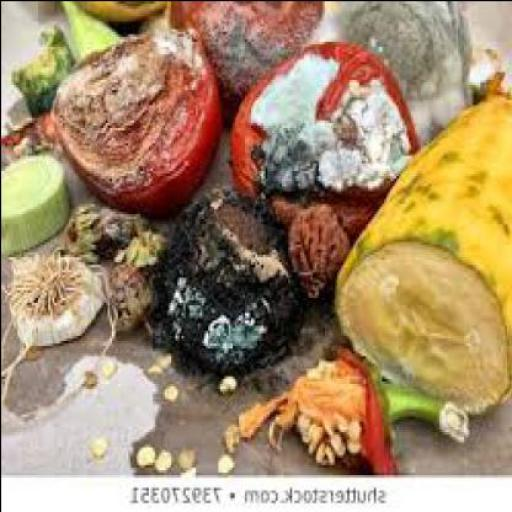biodegradable: (336, 63, 511, 411), (229, 38, 422, 244), (54, 22, 224, 214), (150, 180, 307, 368), (240, 340, 469, 466), (318, 1, 476, 143), (168, 1, 326, 122), (6, 246, 108, 345), (2, 150, 72, 250), (288, 198, 352, 294), (14, 20, 76, 112), (68, 192, 149, 254), (110, 256, 164, 330), (58, 1, 123, 59), (113, 220, 170, 264), (76, 0, 172, 26), (2, 112, 41, 154), (143, 3, 172, 30), (39, 109, 59, 147), (225, 418, 244, 446), (219, 370, 241, 392), (141, 436, 158, 464), (154, 444, 172, 468), (178, 442, 197, 464), (92, 431, 109, 451), (160, 378, 180, 395), (102, 355, 117, 377), (25, 340, 45, 354), (223, 452, 236, 471), (82, 368, 98, 383), (181, 462, 201, 472), (148, 358, 164, 368), (160, 352, 170, 362)
